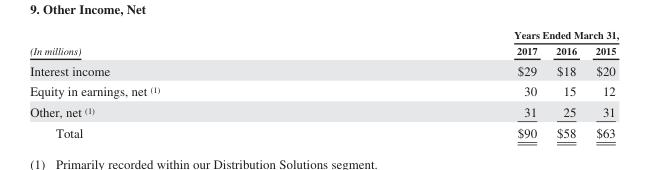table: (29, 28, 618, 139)
table column: (29, 28, 336, 139), (336, 28, 546, 139), (546, 28, 585, 139), (585, 28, 618, 139)
table column header: (29, 28, 618, 59)
table row: (29, 59, 618, 80), (29, 80, 618, 101), (29, 101, 618, 121), (29, 121, 618, 139), (29, 42, 618, 59), (29, 28, 618, 42)
table spanning cell: (29, 28, 336, 59), (336, 28, 618, 42)
